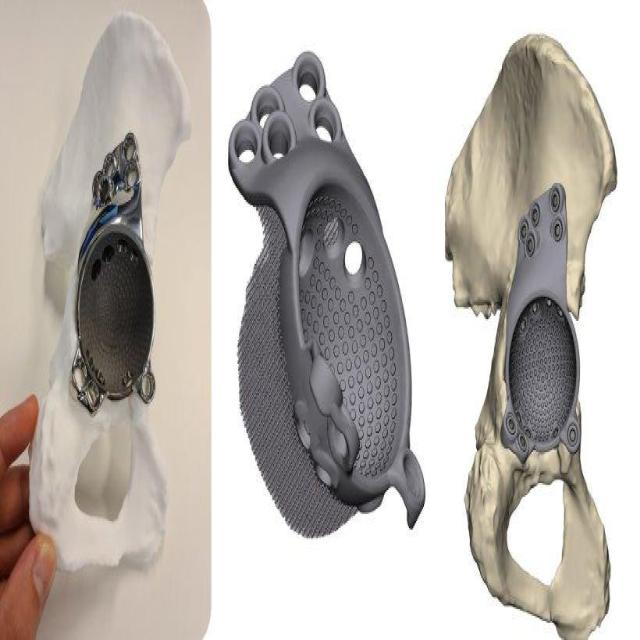Without deffect: (225, 52, 424, 556)
